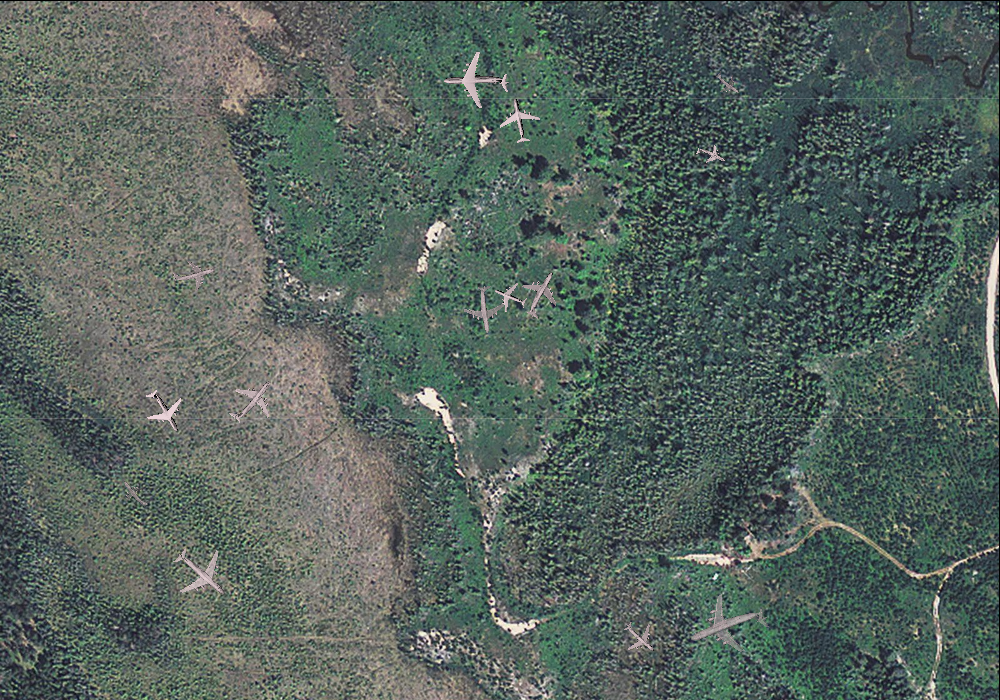plane: (678, 579, 779, 676), (159, 532, 242, 615), (216, 364, 287, 436), (442, 48, 509, 113), (509, 261, 573, 326), (132, 379, 194, 442), (459, 282, 511, 336), (494, 94, 544, 146), (614, 613, 665, 663), (167, 249, 219, 297), (113, 471, 156, 515), (488, 275, 532, 317), (709, 64, 747, 101), (691, 137, 730, 173)
